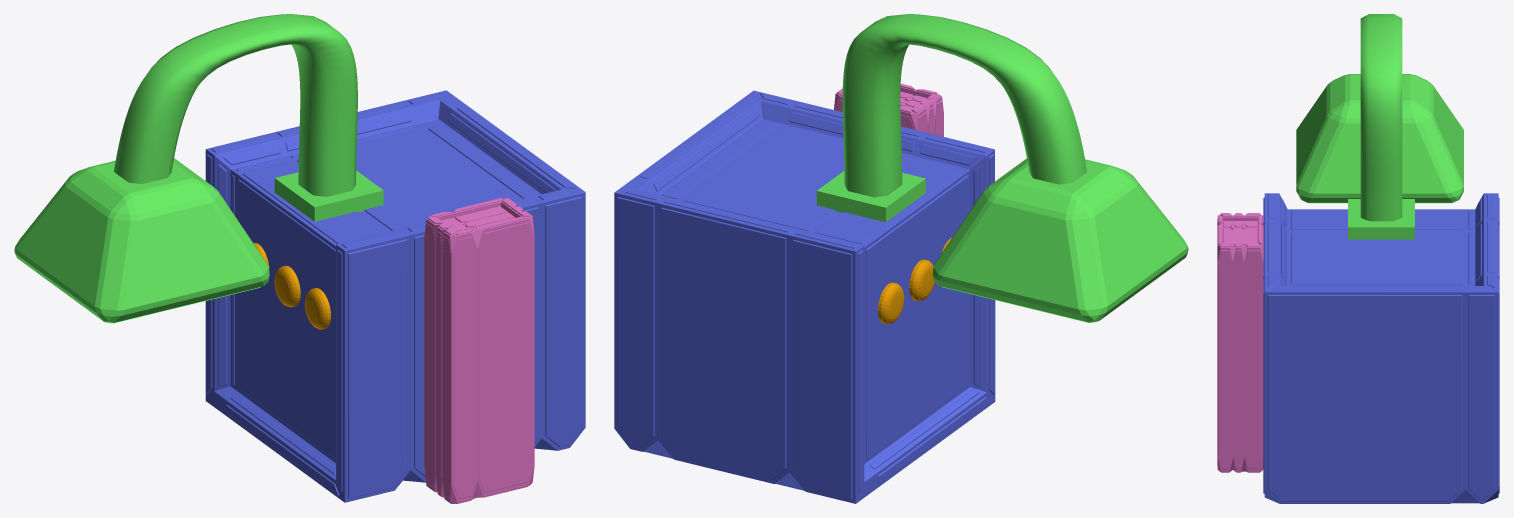
Rendered from lake item thing.fbx.
3 renders of one model, left to right at view 1: azimuth 30°, elevation 25°; view 2: azimuth 150°, elevation 25°; view 3: azimuth 270°, elevation 25°, orthographic. The views are drawn at different scales.
Parts seen in each view (by area): view 1: Cube.002, Cube.001, Cube, Cylinder.001; view 2: Cube.002, Cube.001, Cube, Cylinder.001; view 3: Cube.002, Cube.001, Cube.
Boxes of the visible parts, bbox=[...] form: Cube.002: bbox=[205, 90, 585, 502]; Cube.001: bbox=[14, 14, 383, 323]; Cube: bbox=[424, 198, 534, 503]; Cylinder.001: bbox=[253, 242, 330, 329]; Cube.002: bbox=[614, 90, 995, 503]; Cube.001: bbox=[816, 14, 1188, 322]; Cube: bbox=[834, 83, 943, 136]; Cylinder.001: bbox=[878, 238, 951, 324]; Cube.002: bbox=[1263, 193, 1499, 503]; Cube.001: bbox=[1296, 14, 1463, 239]; Cube: bbox=[1217, 213, 1263, 472].
Size of the model in its own units: 384 by 343 by 241.
